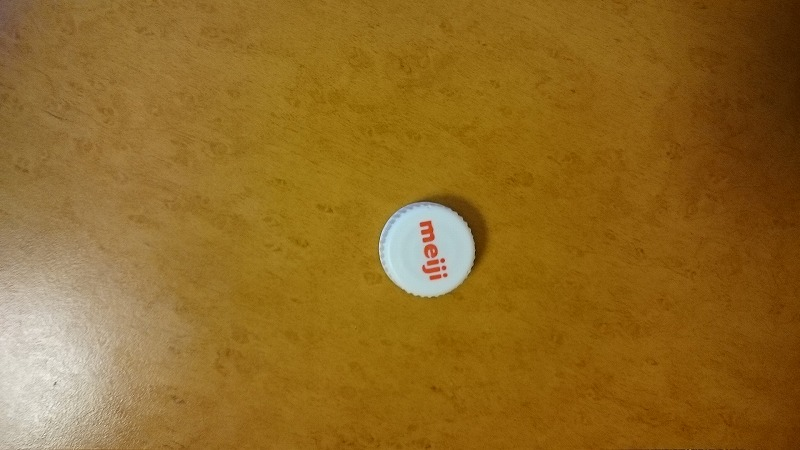B: (371, 195, 486, 302)
